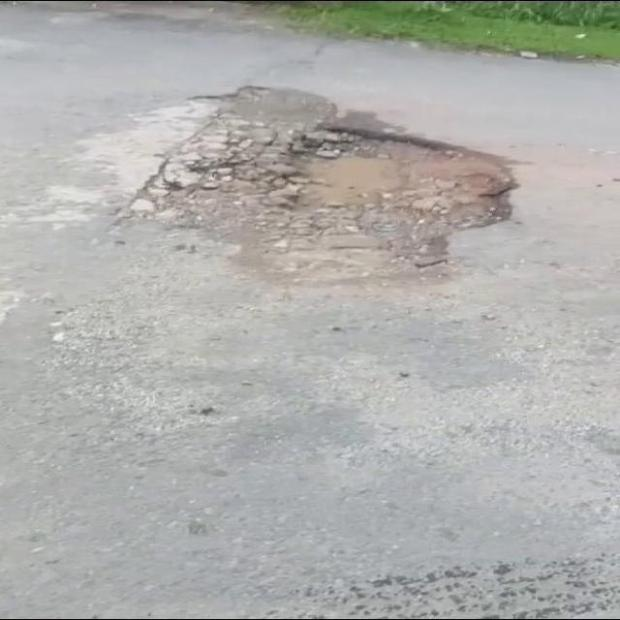lubang: (152, 86, 515, 278)
